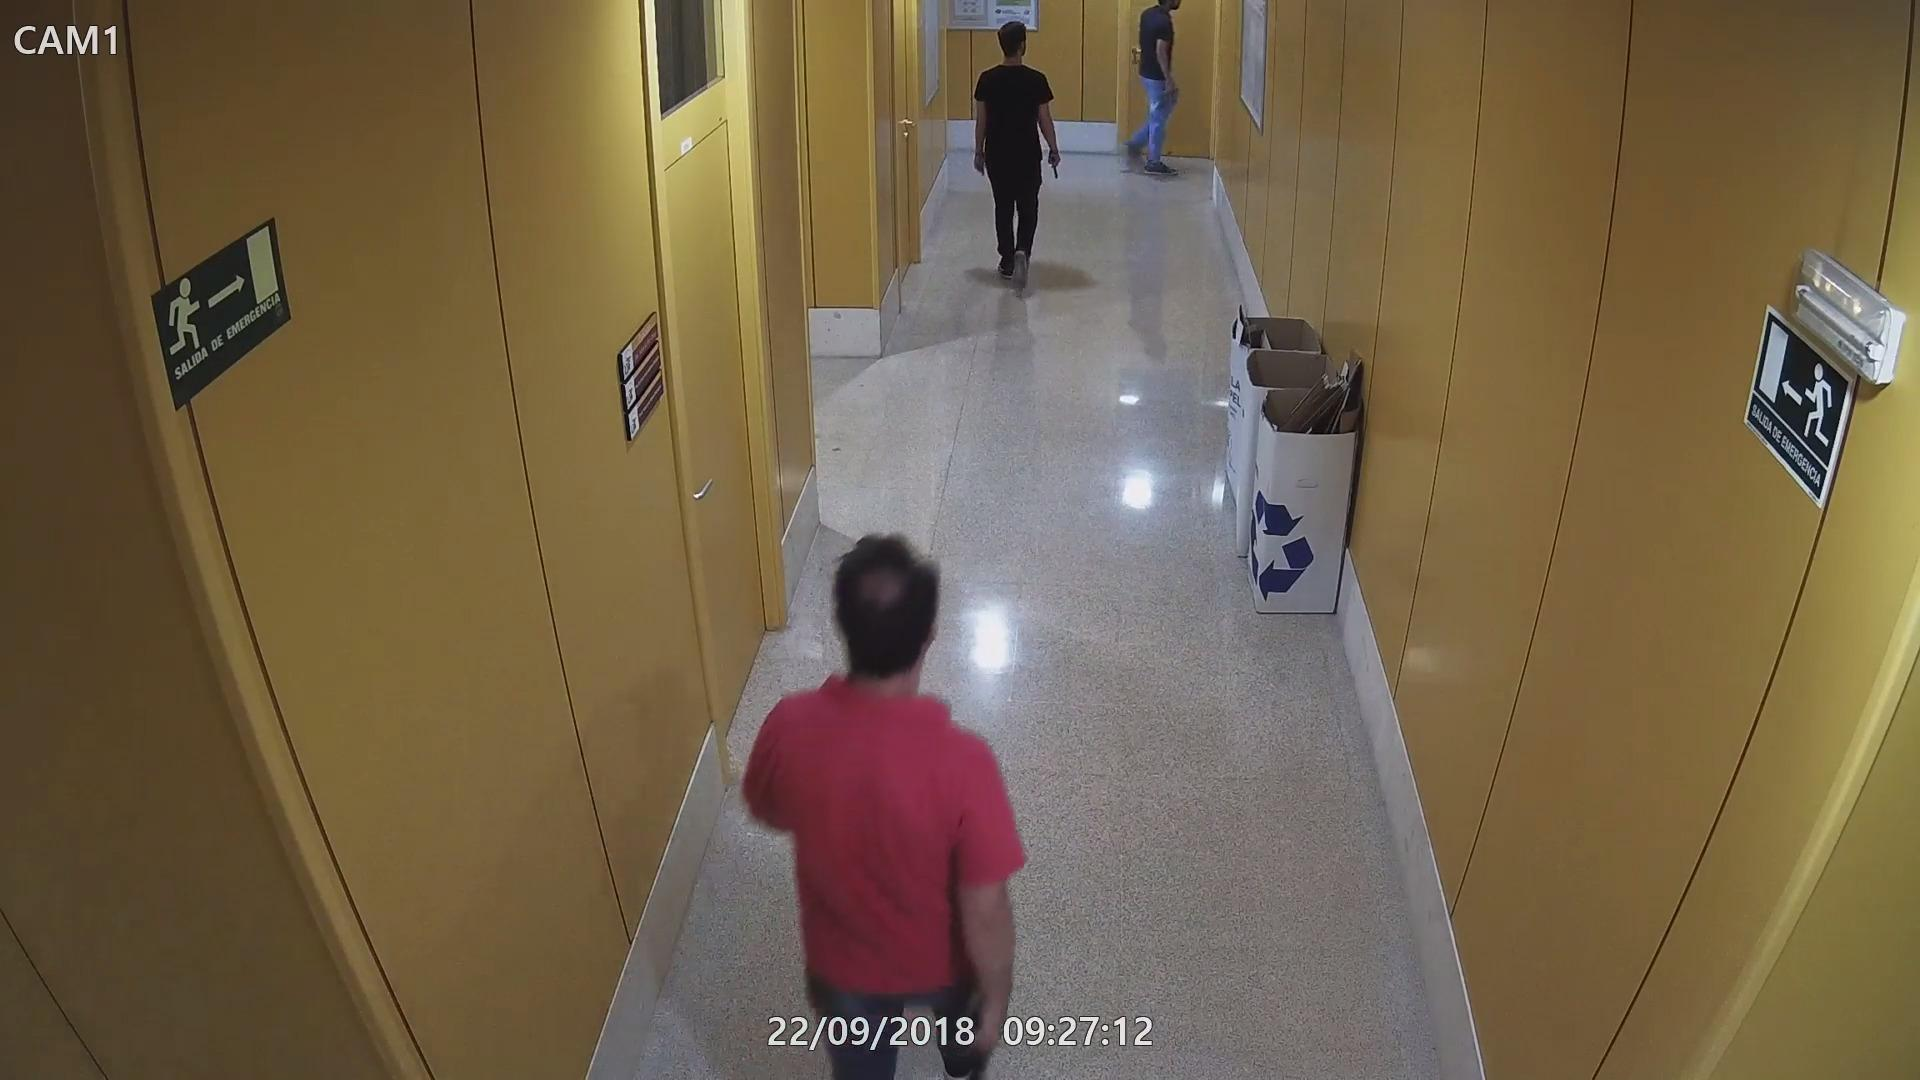Handgun: (957, 1000, 1004, 1079), (1040, 149, 1067, 179), (1156, 78, 1183, 107)
